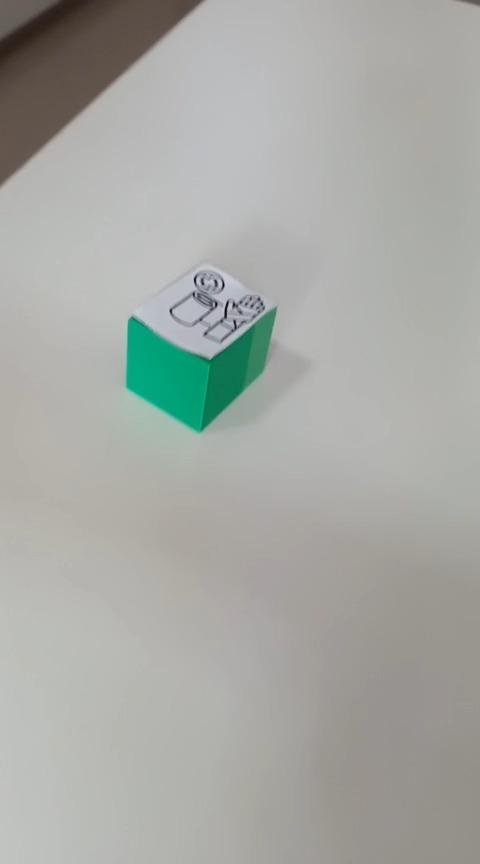Bandages: (124, 260, 278, 433)
